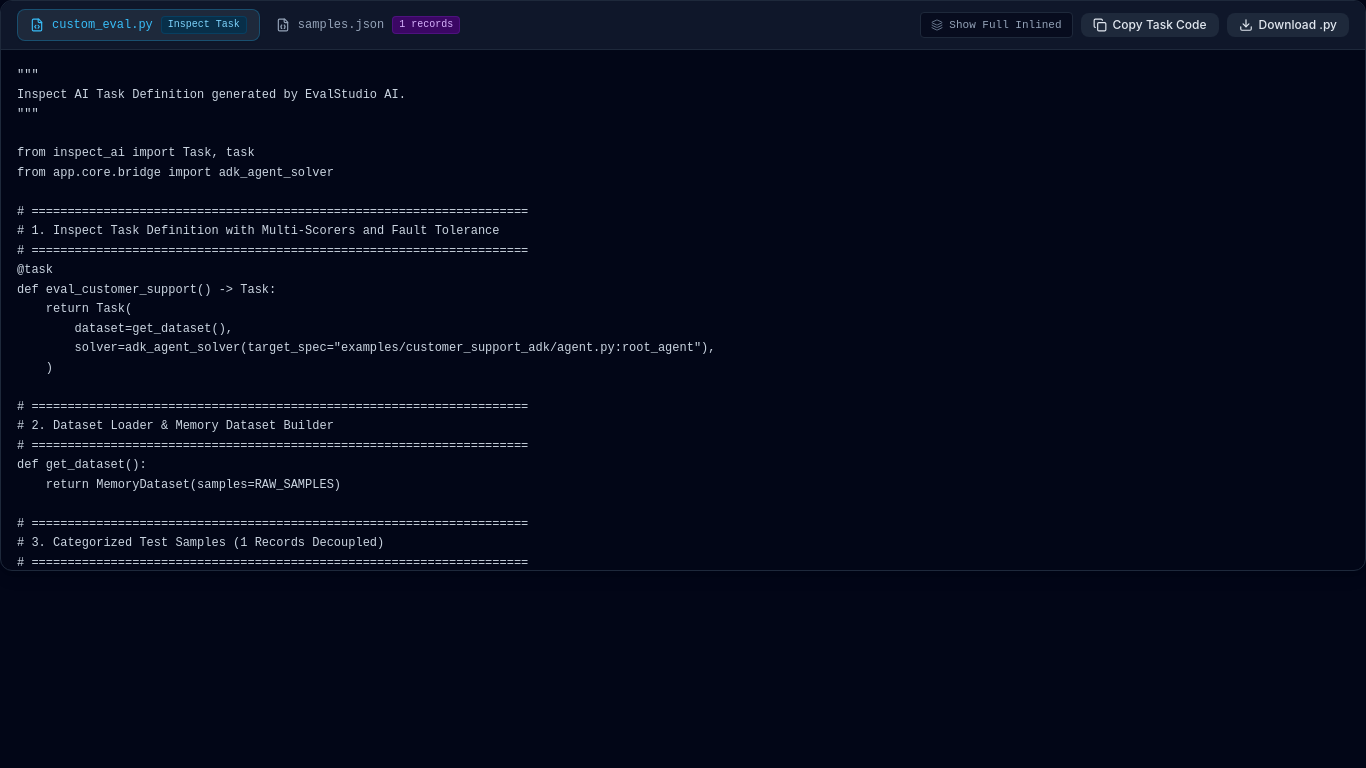
Test case: CodeViewer Component › switches to samples.json subtab and renders JSON records
Click the button "samples.json 1 records".
click(368, 25)  # box [264,10,472,40]
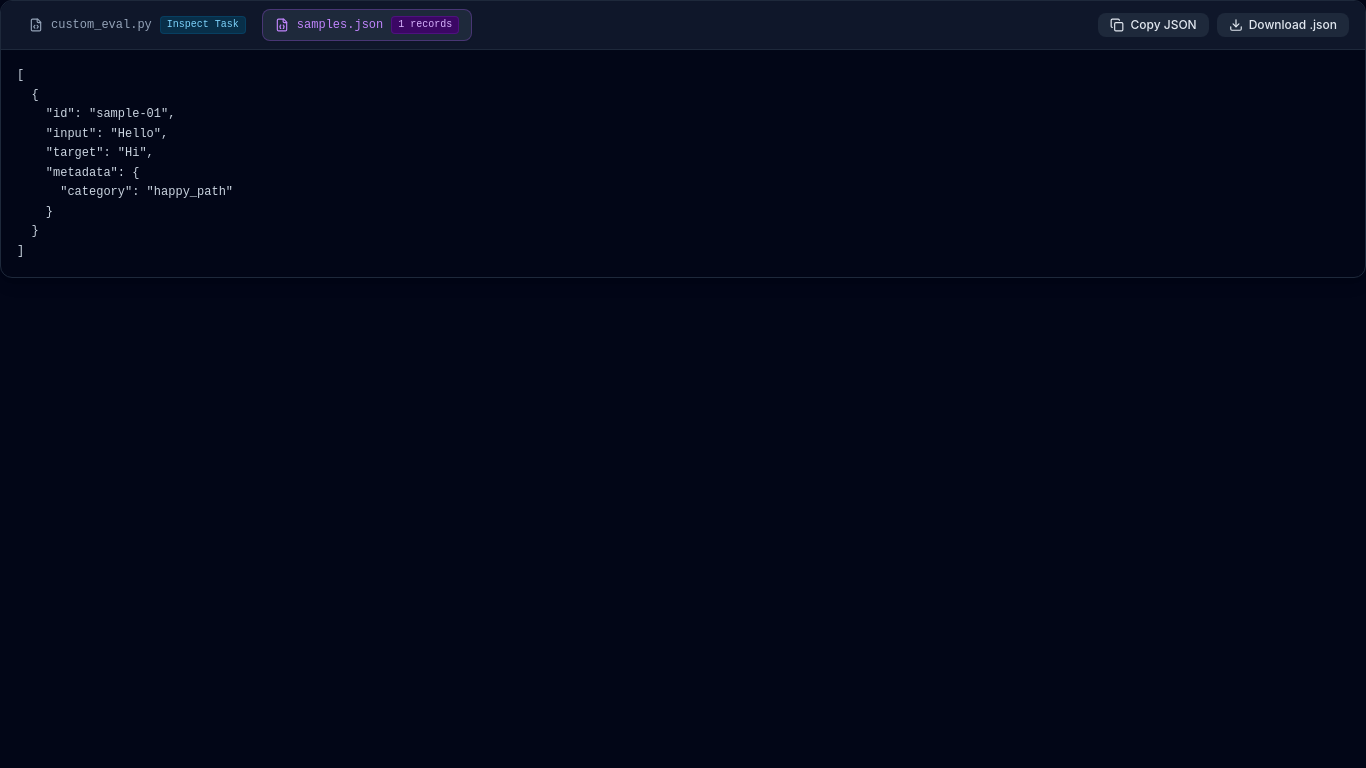
Expected: the text "\"category\": \"happy_path\"" is shown, [17,68,233,258]
Expected: the button "Copy JSON" is shown, [1098,13,1209,37]
Expected: the button "Download .json" is shown, [1217,13,1349,37]
